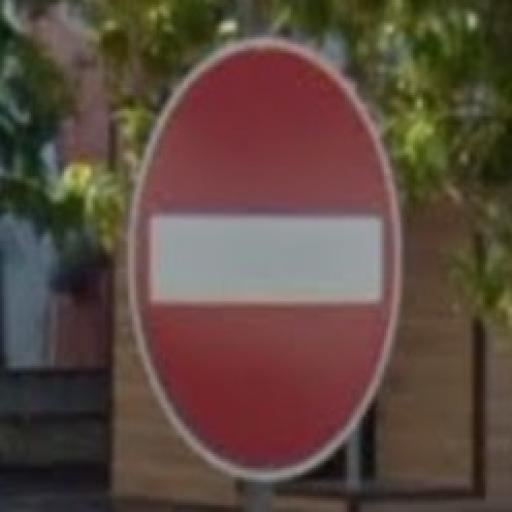traffic_sign: (129, 38, 406, 483)
